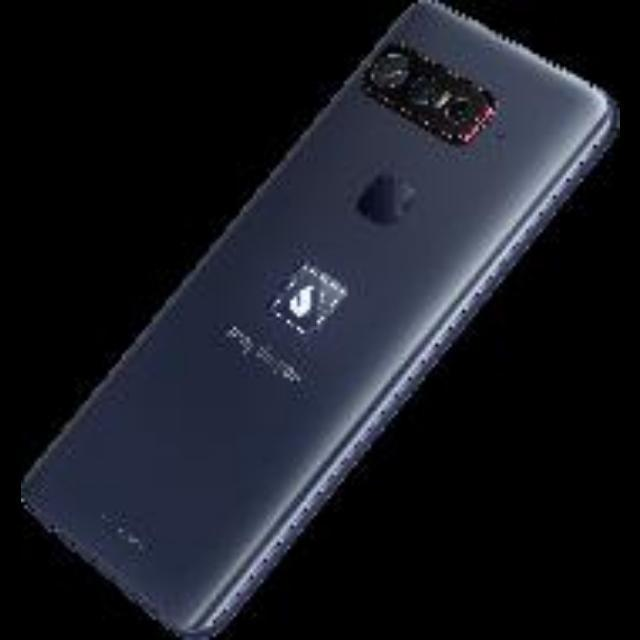PhoneUse: (22, 0, 618, 640)
